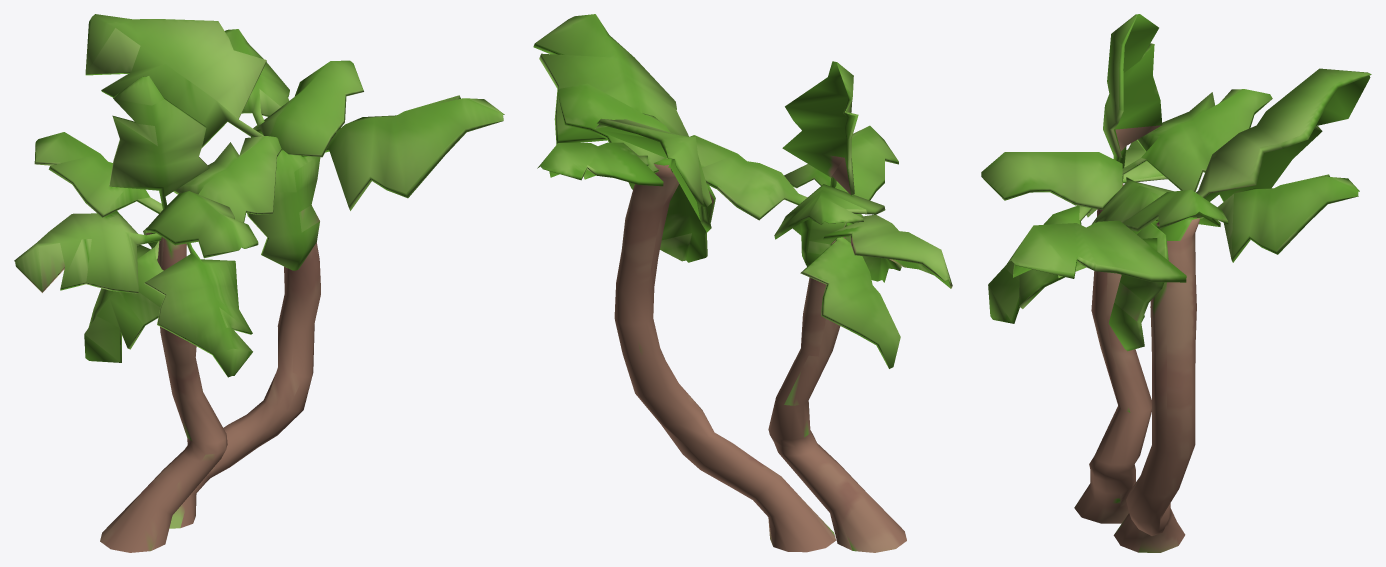
File: DoubleCoconutTree.fbx
3 views of the same model, side by side, from view 1: azimuth 30°, elevation 25°; view 2: azimuth 150°, elevation 25°; view 3: azimuth 270°, elevation 25° (orthographic). The views are drawn at different scales.
Visible parts, largest first — view 1: DoubleCoconutTree; view 2: DoubleCoconutTree; view 3: DoubleCoconutTree.
Part boxes in pixels (x1,y1,x2,y2): DoubleCoconutTree: (14, 14, 504, 552); DoubleCoconutTree: (533, 14, 952, 552); DoubleCoconutTree: (981, 14, 1371, 552).
Bounding box in the file's own units: 4.17 × 4.19 × 2.9.
